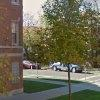Tree: (34, 2, 100, 65)
